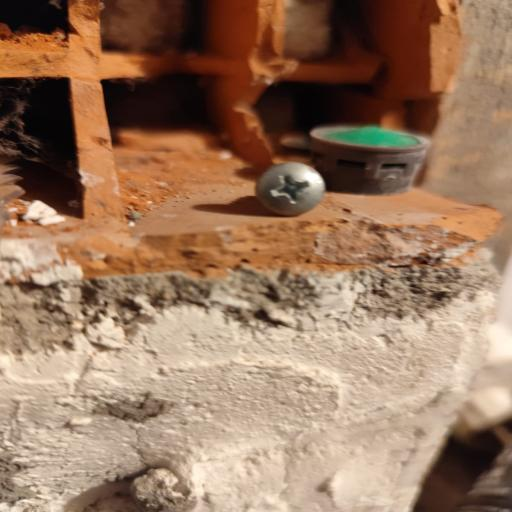Phillips: (250, 160, 325, 219)
